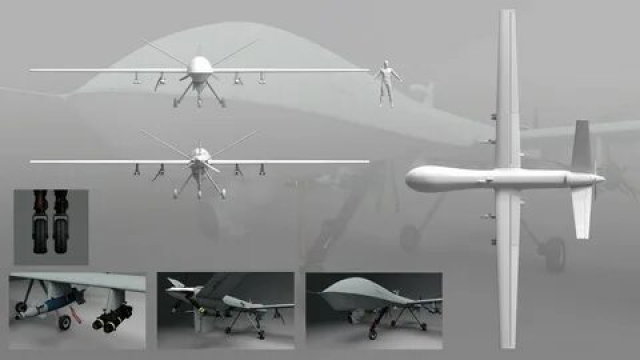military drone: (404, 8, 606, 349), (28, 37, 370, 108), (28, 129, 369, 199), (165, 272, 293, 340), (307, 276, 442, 339)
